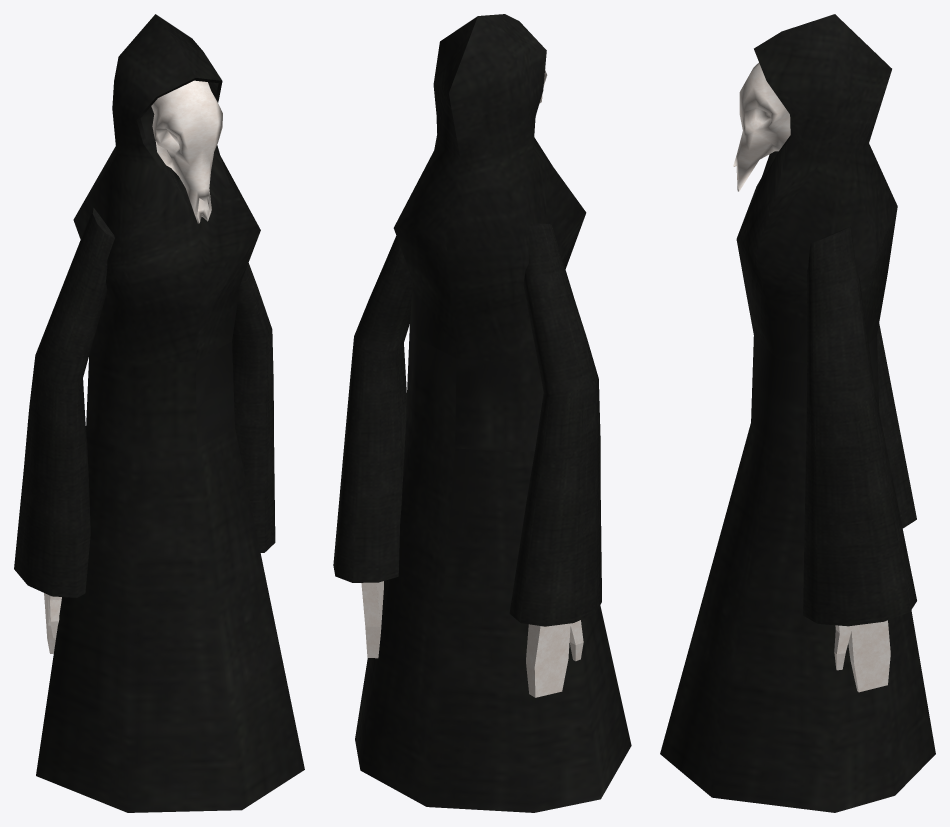
File: shadow.glb
The picture shows the model from 3 angles, left to right: view 1: azimuth 30°, elevation 25°; view 2: azimuth 150°, elevation 25°; view 3: azimuth 270°, elevation 25°; orthographic projection. The views are drawn at different scales.
Visible parts, largest first — view 1: base_mesh.002; view 2: base_mesh.002; view 3: base_mesh.002.
Boxes of the visible parts, <box> form: base_mesh.002: <box>14,14,304,812</box>; base_mesh.002: <box>333,14,631,812</box>; base_mesh.002: <box>660,14,935,812</box>.
Bounding box in the file's own units: 1.46 × 4.24 × 1.43.
Materials: 3 (3 with a texture image).
